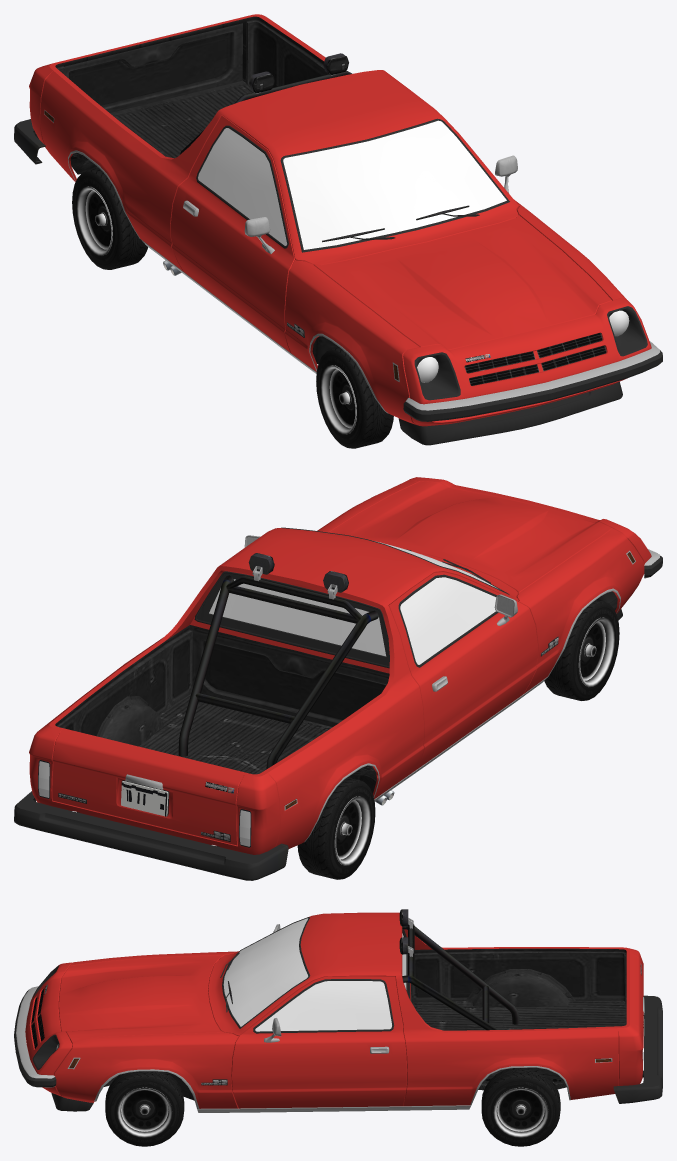
Rendered from doutrive78.glb.
The picture shows the model from 3 angles, top to bottom: view 1: azimuth 30°, elevation 25°; view 2: azimuth 150°, elevation 25°; view 3: azimuth 270°, elevation 25°; orthographic projection. The views are drawn at different scales.
Parts seen in each view (by area): view 1: doutrive78; view 2: doutrive78; view 3: doutrive78.
Boxes of the visible parts, x1=… form: doutrive78: x1=14, y1=14, x2=662, y2=448; doutrive78: x1=14, y1=477, x2=662, y2=880; doutrive78: x1=14, y1=909, x2=662, y2=1146.
Size of the model in its own units: 1.75 by 1.39 by 4.7.
8 materials, 6 textured.
